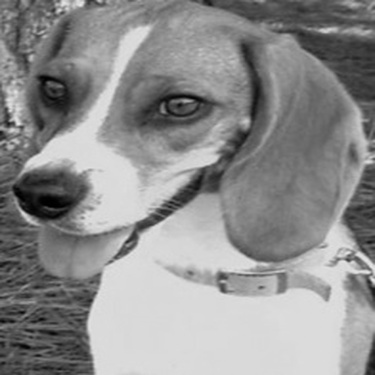dog: (3, 4, 371, 371)
